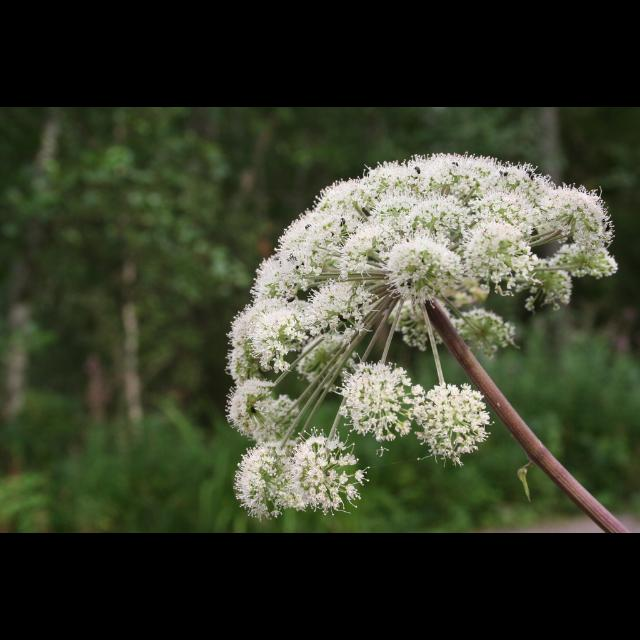Flower: (225, 119, 590, 498)
